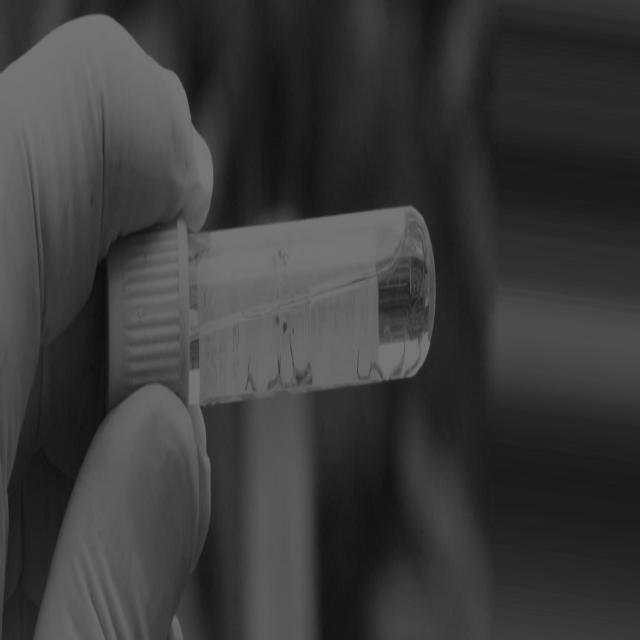larvas: (291, 339, 312, 382), (357, 352, 383, 382), (245, 360, 256, 393), (278, 357, 290, 387), (266, 364, 278, 391)
